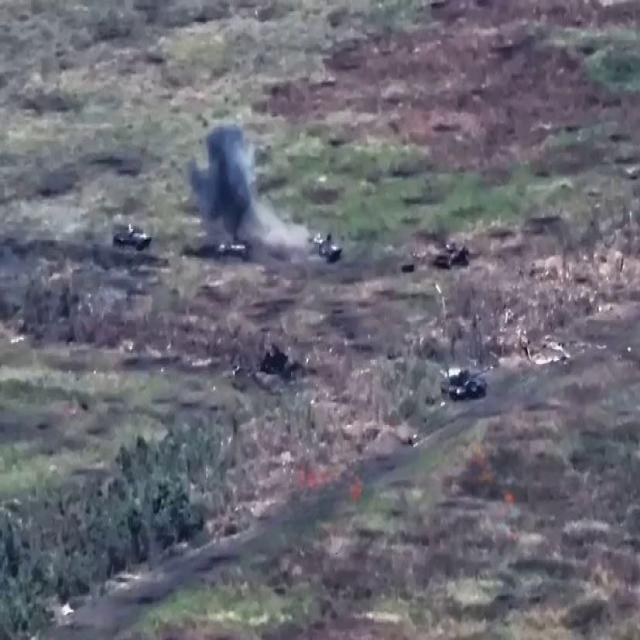AIFV: (215, 234, 254, 265), (308, 231, 342, 265), (113, 223, 152, 250)
Destroyed: (437, 243, 468, 269)
MBT: (442, 364, 498, 406)
